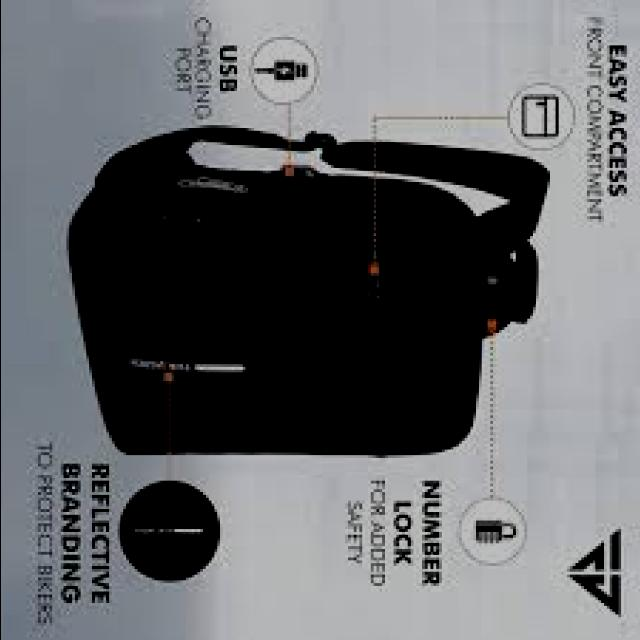backpack: (69, 123, 553, 456)
